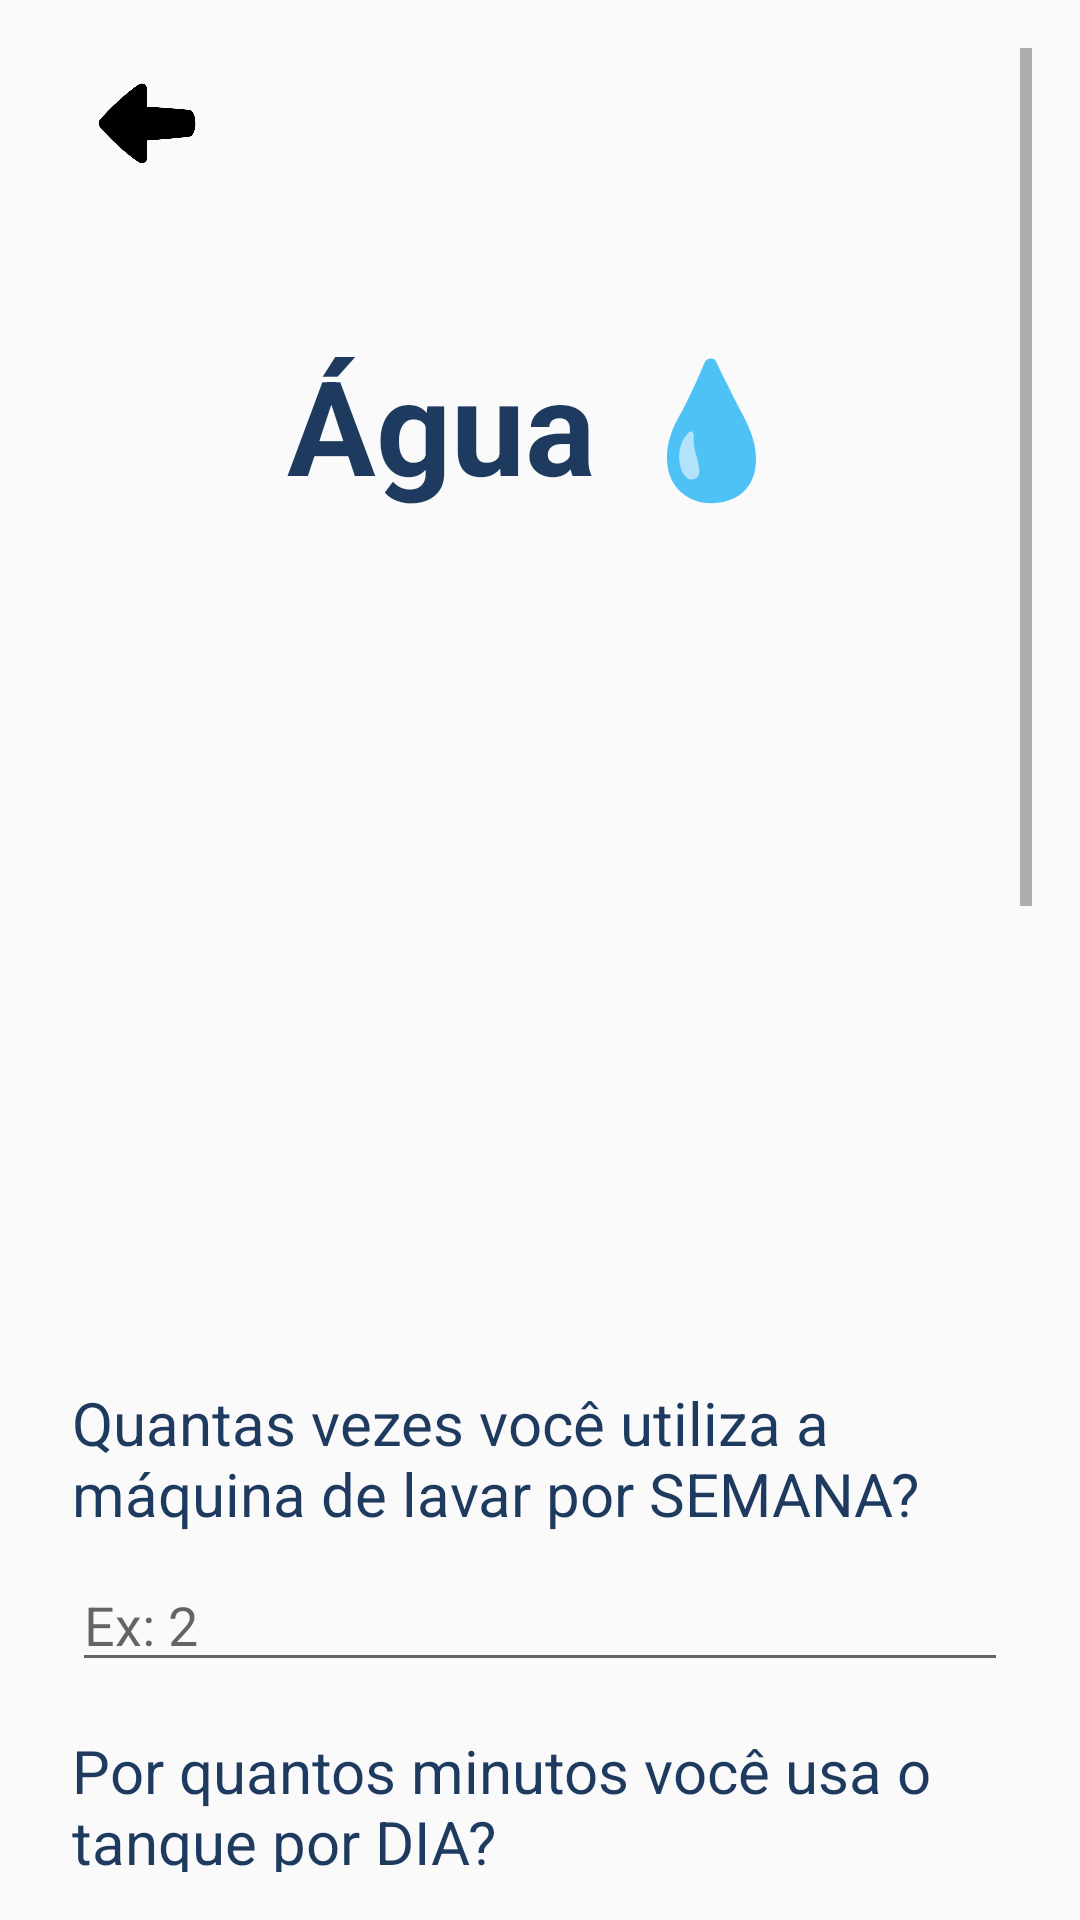

Screen size 1080px×1920px. Icon name, then its center in pixels as (x=x, y=y):
Voltar: (x=147, y=123)
